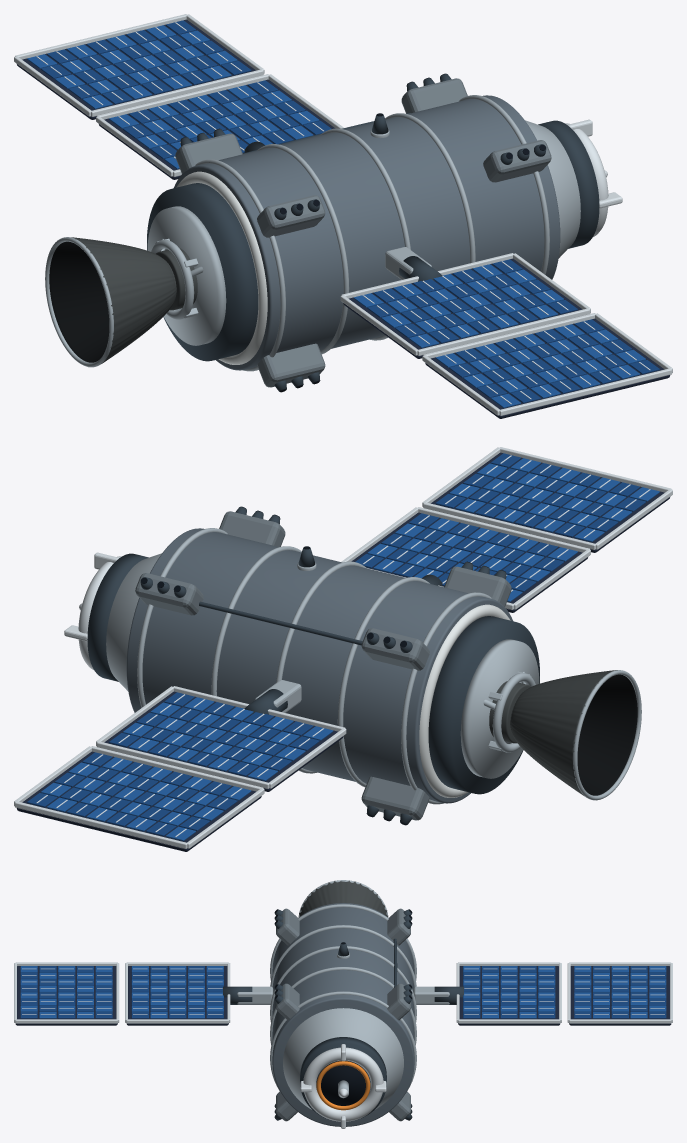
The model's file is ios_chaser_sim.glb.
The picture shows the model from 3 angles, top to bottom: view 1: azimuth 30°, elevation 25°; view 2: azimuth 150°, elevation 25°; view 3: azimuth 270°, elevation 25°; orthographic projection. The views are drawn at different scales.
Parts seen in each view (by area): view 1: object 7, object 1, object 4, object 6, object 5, starboard_array_segment_2, starboard_array_segment_1, RCS_+1.02_135, RCS_-1.02_135, external_frame.001, external_frame, array_edge_rail.010 (+12 smaller); view 2: object 7, object 1, object 4, object 5, object 6, RCS_-1.02_315, starboard_array_segment_2, starboard_array_segment_1, RCS_-1.02_135, RCS_+1.02_135, external_frame.001, external_frame (+13 smaller); view 3: object 7, object 1, object 5, object 4, object 6, starboard_array_segment_2, object 2, starboard_array_segment_1, external_frame.004, object 3, external_frame.002, external_frame.001 (+11 smaller).
Boxes of the visible parts, x1,y1,x2,y2 form: object 7: (49, 95, 560, 370); object 1: (45, 14, 672, 415); object 4: (71, 237, 197, 363); object 6: (175, 78, 467, 387); object 5: (17, 19, 335, 179); starboard_array_segment_2: (425, 318, 670, 418); starboard_array_segment_1: (343, 258, 582, 358); RCS_+1.02_135: (483, 140, 551, 182); RCS_-1.02_135: (257, 195, 325, 237); external_frame.001: (257, 144, 349, 354); external_frame: (195, 159, 285, 371); array_edge_rail.010: (417, 308, 590, 355); object 7: (126, 528, 637, 803); object 1: (14, 447, 672, 805); object 4: (489, 670, 617, 796); object 5: (16, 691, 343, 851); object 6: (135, 573, 429, 670); RCS_-1.02_315: (361, 776, 429, 820); starboard_array_segment_2: (431, 452, 669, 552); starboard_array_segment_1: (351, 512, 587, 612); RCS_-1.02_135: (444, 566, 511, 606); RCS_+1.02_135: (219, 511, 285, 546); external_frame.001: (337, 577, 429, 787); external_frame: (401, 592, 491, 804); object 7: (272, 903, 414, 1126); object 1: (14, 880, 671, 1121); object 5: (458, 966, 671, 1025); object 4: (299, 881, 387, 916); object 6: (276, 908, 410, 1121); starboard_array_segment_2: (15, 966, 117, 1025); object 2: (320, 942, 366, 1105); starboard_array_segment_1: (126, 966, 228, 1025); external_frame.004: (270, 991, 416, 1091); object 3: (316, 1061, 370, 1110); external_frame.002: (270, 946, 416, 1021); external_frame.001: (270, 925, 416, 986).
Bounding box in the file's own units: 4.78 × 1.83 × 7.6.
